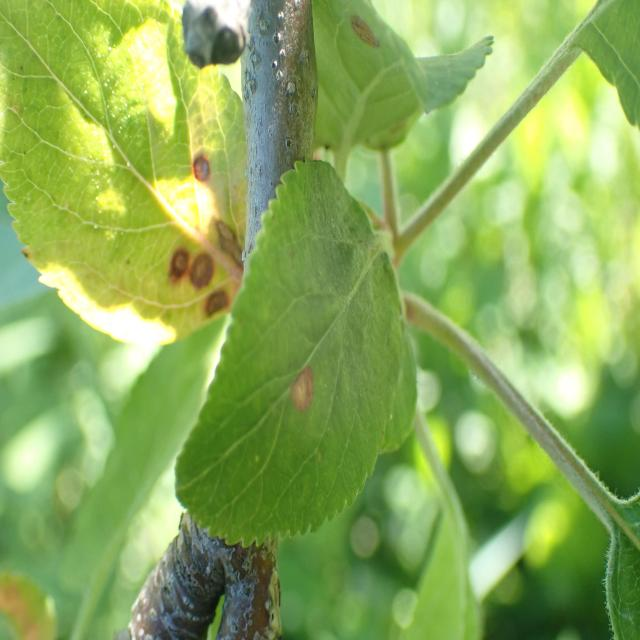Black Rot: (337, 12, 392, 74), (278, 363, 330, 419), (212, 206, 248, 273), (182, 131, 212, 201), (153, 232, 192, 282), (200, 270, 229, 336), (183, 251, 222, 289)
